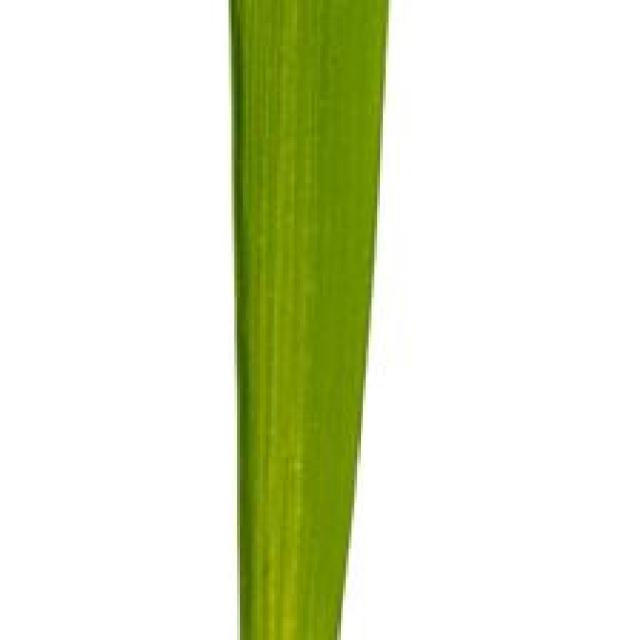Rice___Healthy_Rice_Plant: (228, 0, 390, 637)
